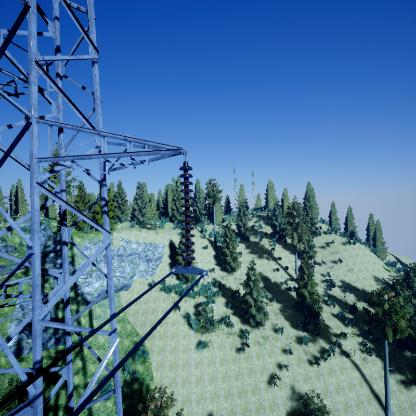insulator: (178, 163, 197, 265)
